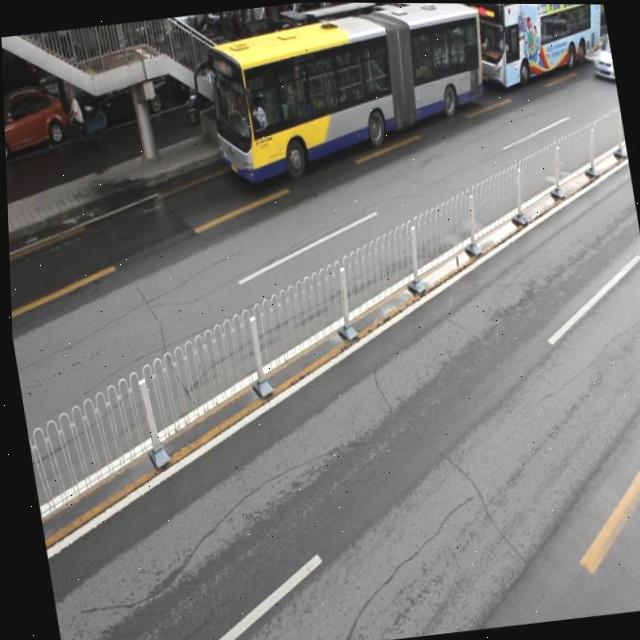car: (66, 53, 169, 125), (252, 16, 334, 85), (170, 30, 247, 102), (2, 81, 69, 159), (584, 31, 615, 81)
van: (198, 1, 495, 176), (462, 3, 613, 88)
